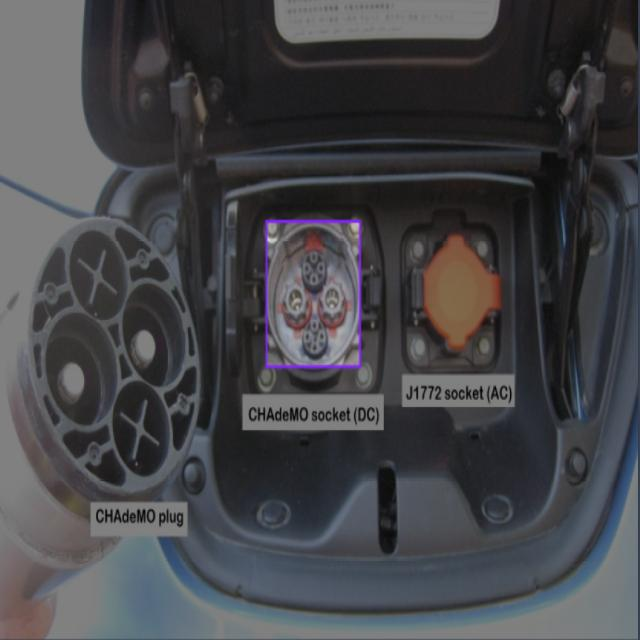CHAdeMO: (267, 219, 361, 366)
